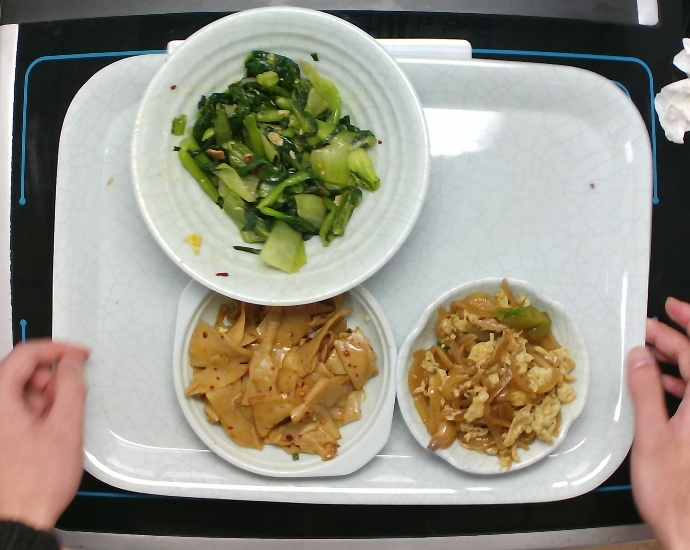JYsf-Ao_Yuan_Wan: (394, 277, 601, 482)
JYsf-Shuang_Er_Pan: (166, 257, 403, 490)
JYsf-Xiao_Tang_Wan: (129, 2, 439, 308)
